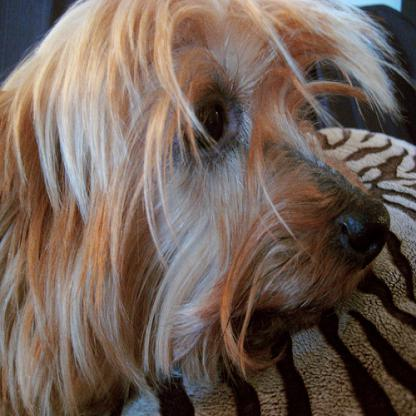dog: (0, 0, 393, 415)
